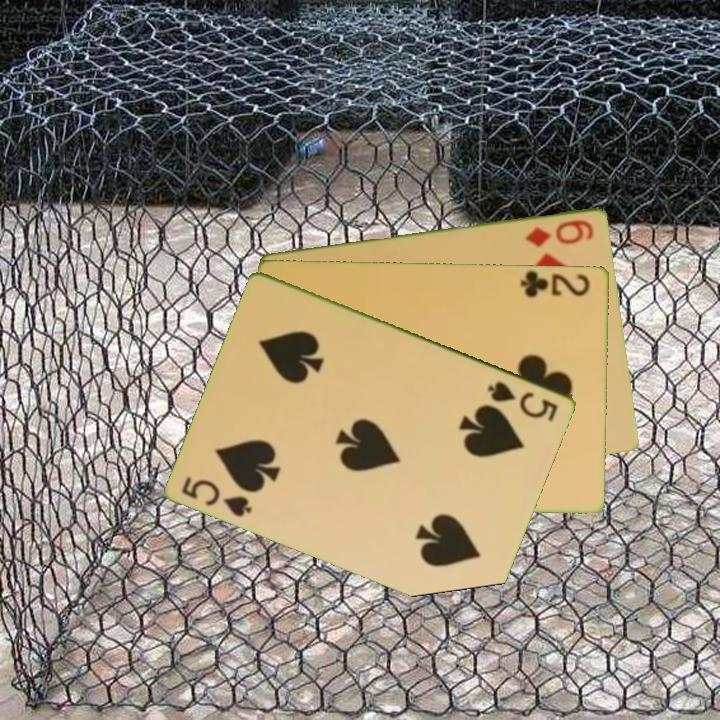2c: (517, 267, 593, 300)
5s: (484, 377, 562, 424), (179, 473, 256, 520)
6d: (522, 215, 597, 250)
